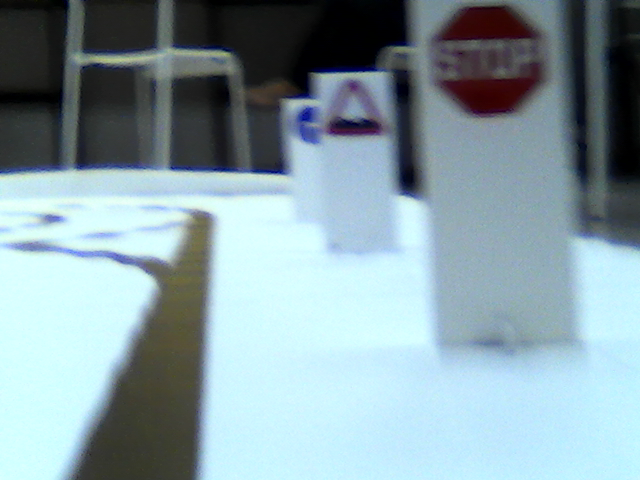Stop: (431, 3, 543, 120)
